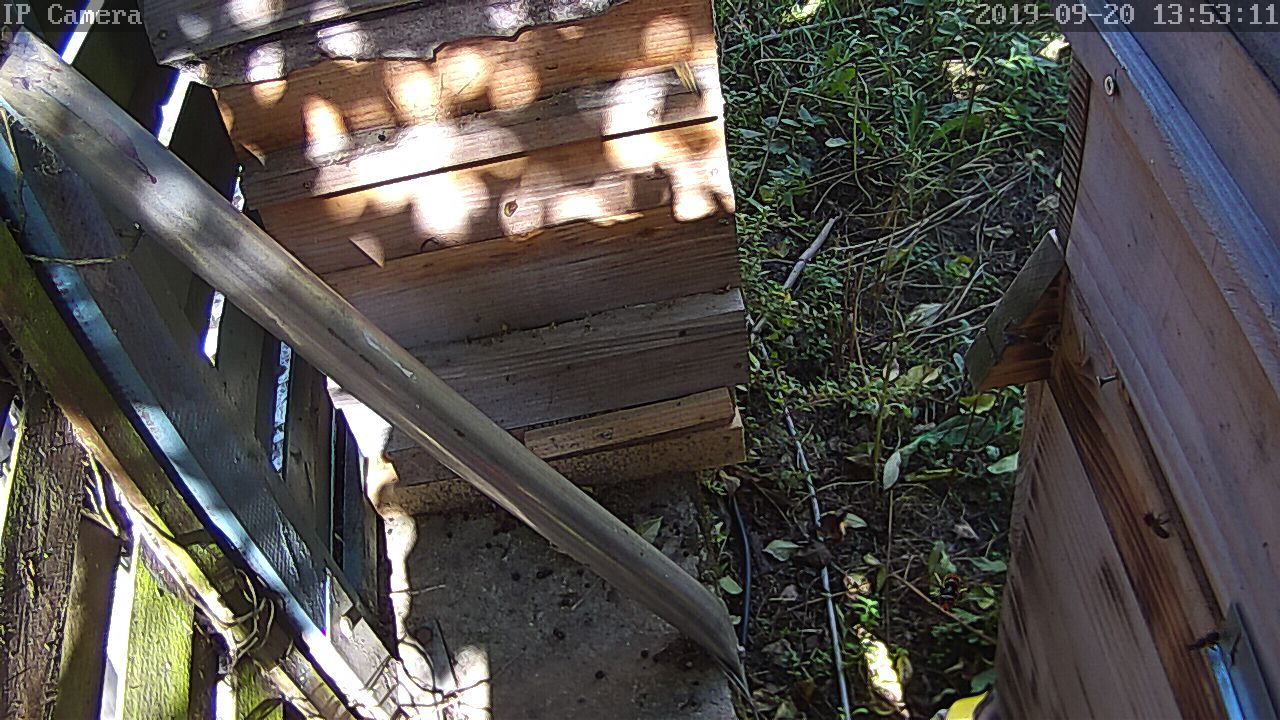bee: (1185, 617, 1233, 652)
hornet: (1133, 497, 1176, 541)
